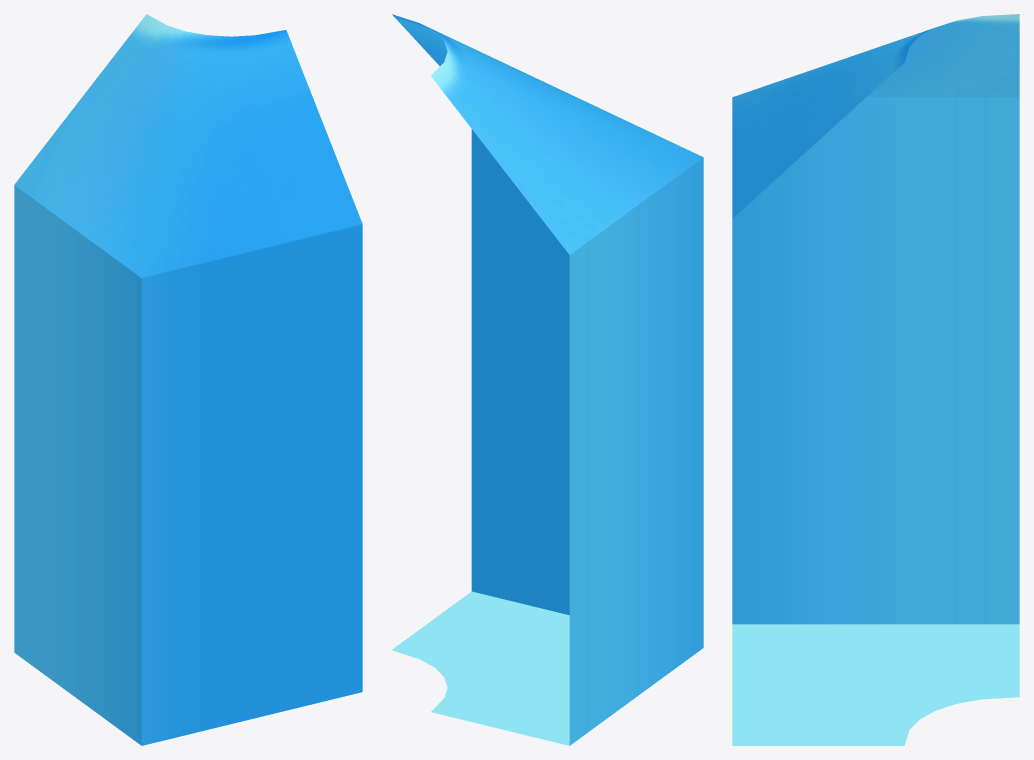
File: CornerToStraight_BottomLeft.glb
3 renders of one model, left to right at view 1: azimuth 30°, elevation 25°; view 2: azimuth 150°, elevation 25°; view 3: azimuth 270°, elevation 25°, orthographic. The views are drawn at different scales.
Visible parts, largest first — view 1: CornerToStraight_BottomLeft; view 2: CornerToStraight_BottomLeft; view 3: CornerToStraight_BottomLeft.
Part boxes in pixels (x1,y1,x2,y2): CornerToStraight_BottomLeft: [14, 14, 362, 745]; CornerToStraight_BottomLeft: [392, 14, 703, 745]; CornerToStraight_BottomLeft: [732, 14, 1019, 745].
Size of the model in its own units: 0.2287 by 0.5995 by 0.2287.
Materials: 1 (1 with a texture image).
